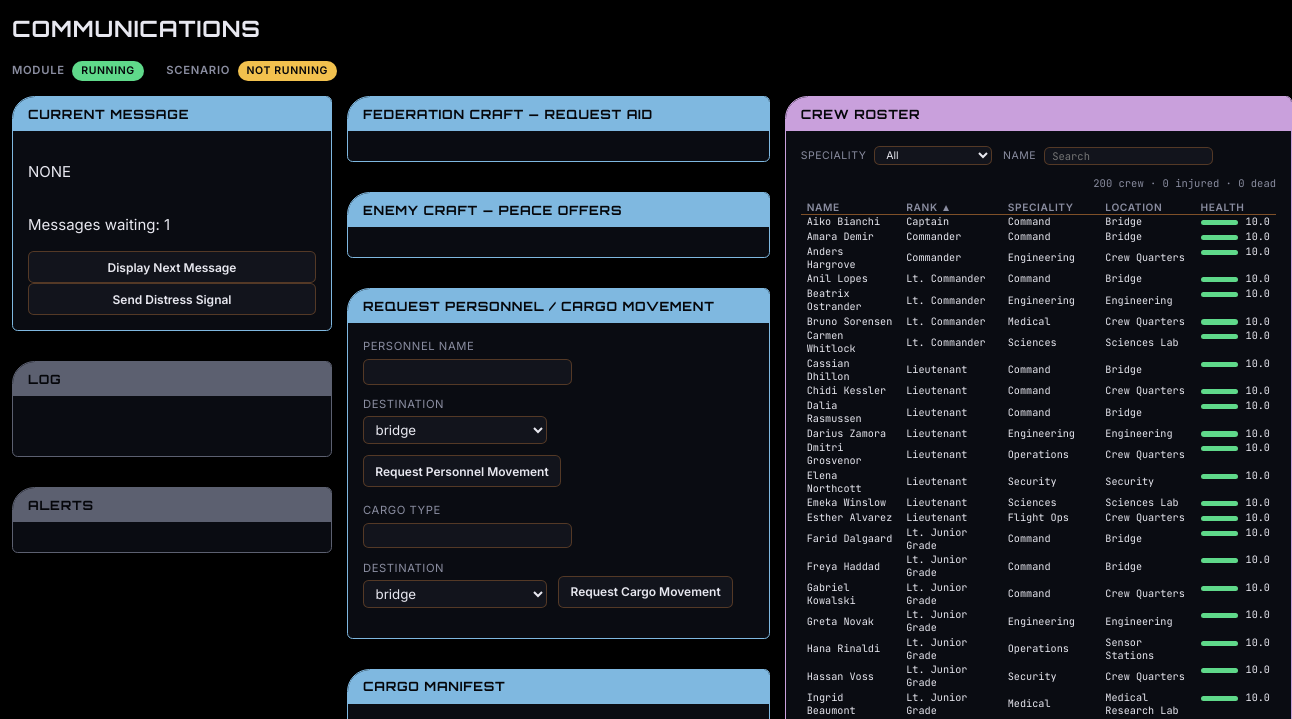
Scenario: CommunicationsStation › displays the next message by clicking a button (point-and-click, no typed command)
Click the button "Display Next Message" at [172, 267], box [28,251,316,283]
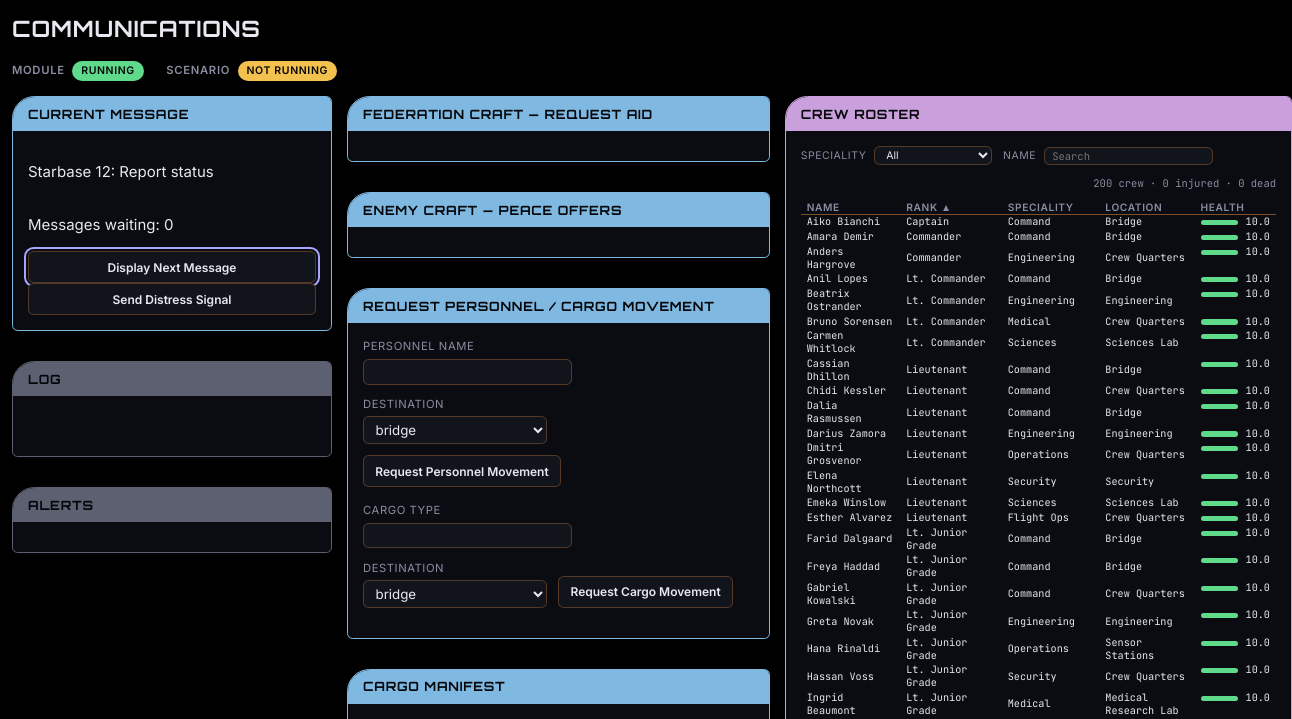
Expected: the text with test id "current-message" shows "Starbase 12", [28,162,214,181]
